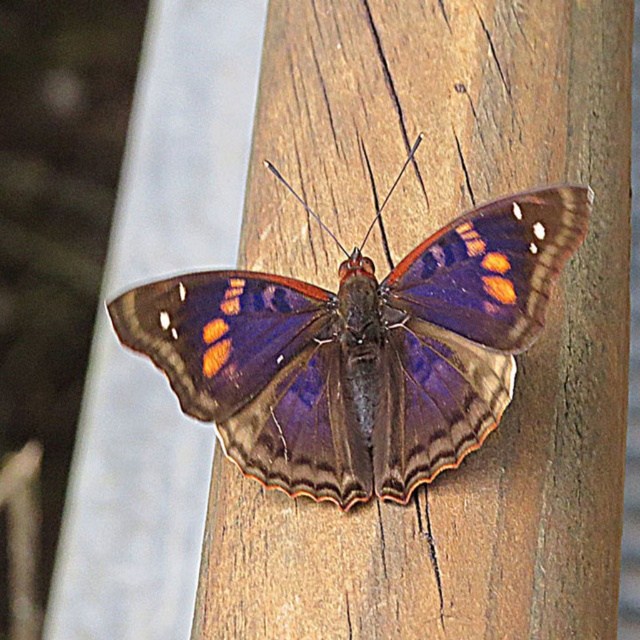Butterfly: (126, 137, 574, 525)
